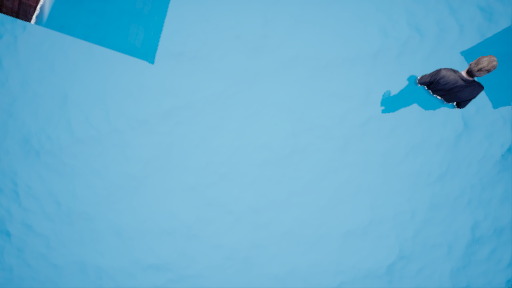person: (380, 53, 503, 135)
